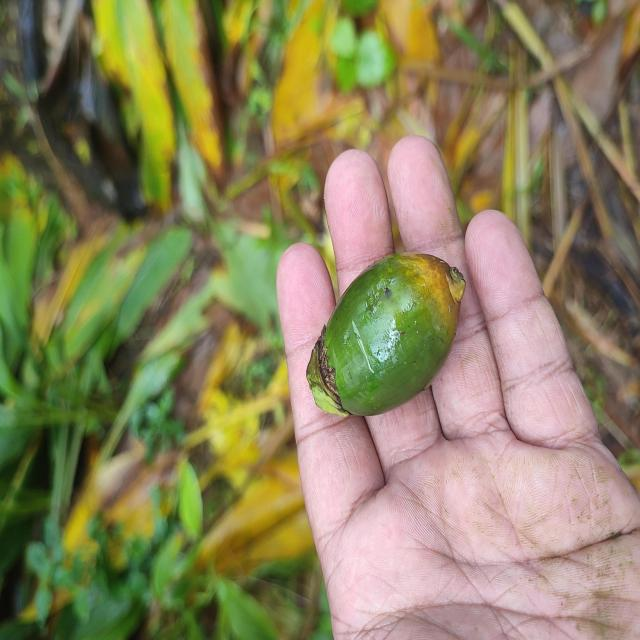good: (306, 254, 465, 419)
